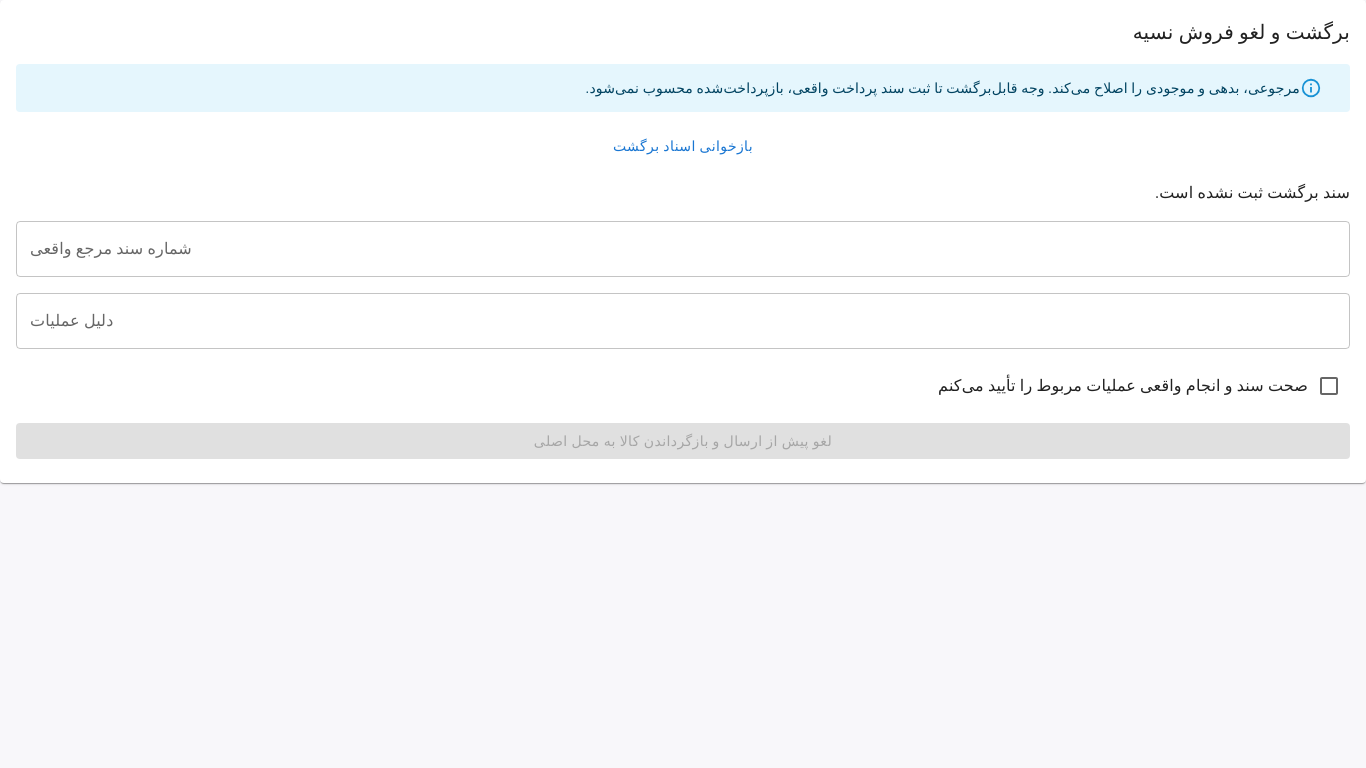
Test: Credit-sale cancellation and real refund UI › requires evidence/confirmation and submits captured versions without invented financial amounts
Expected: the button "لغو پیش از ارسال و بازگرداندن کالا به محل اصلی" is disabled, left=16, top=422, right=1350, bottom=459
Type "actual-evidence" into the field labelled "شماره سند مرجع واقعی". click: (683, 248)
box: left=16, top=220, right=1350, bottom=276
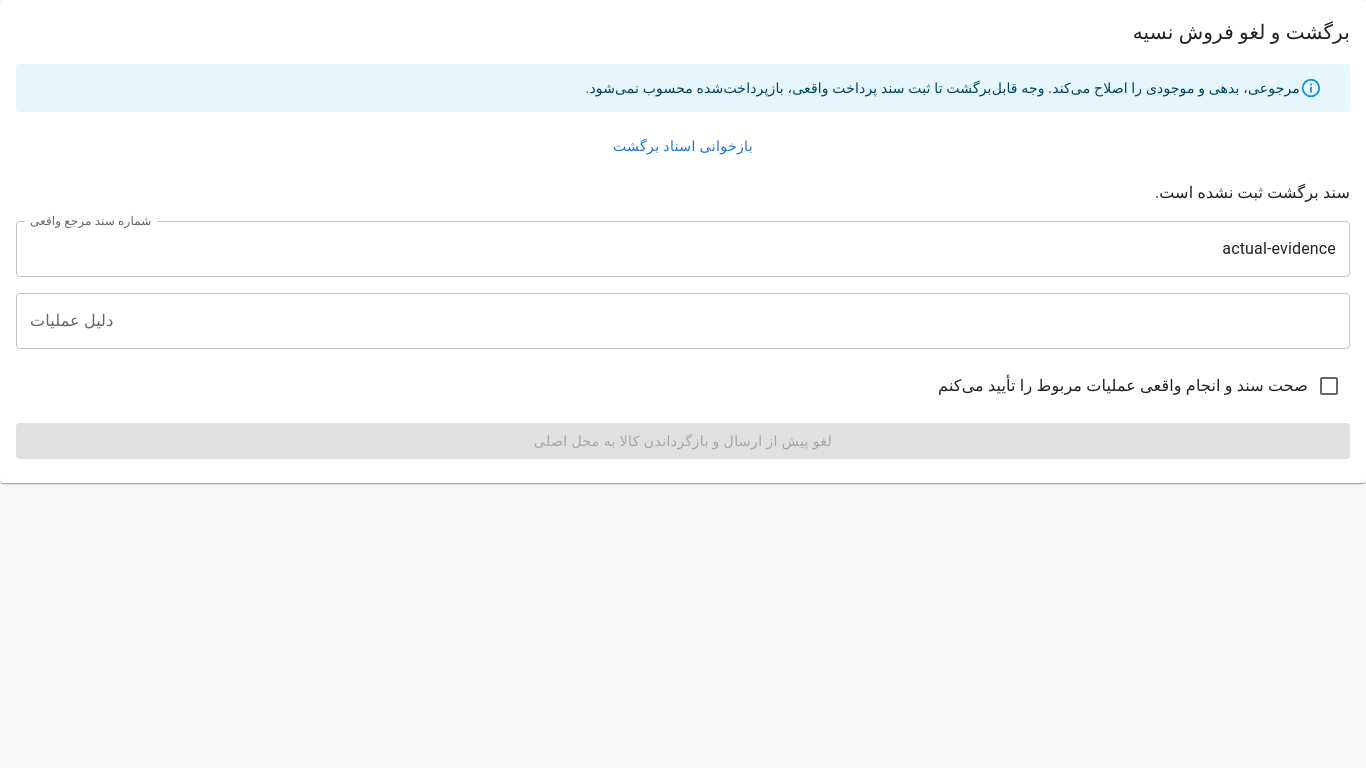
Type "Actual test reason" into the field labelled "دلیل عملیات". click: (683, 320)
box: left=16, top=292, right=1350, bottom=348
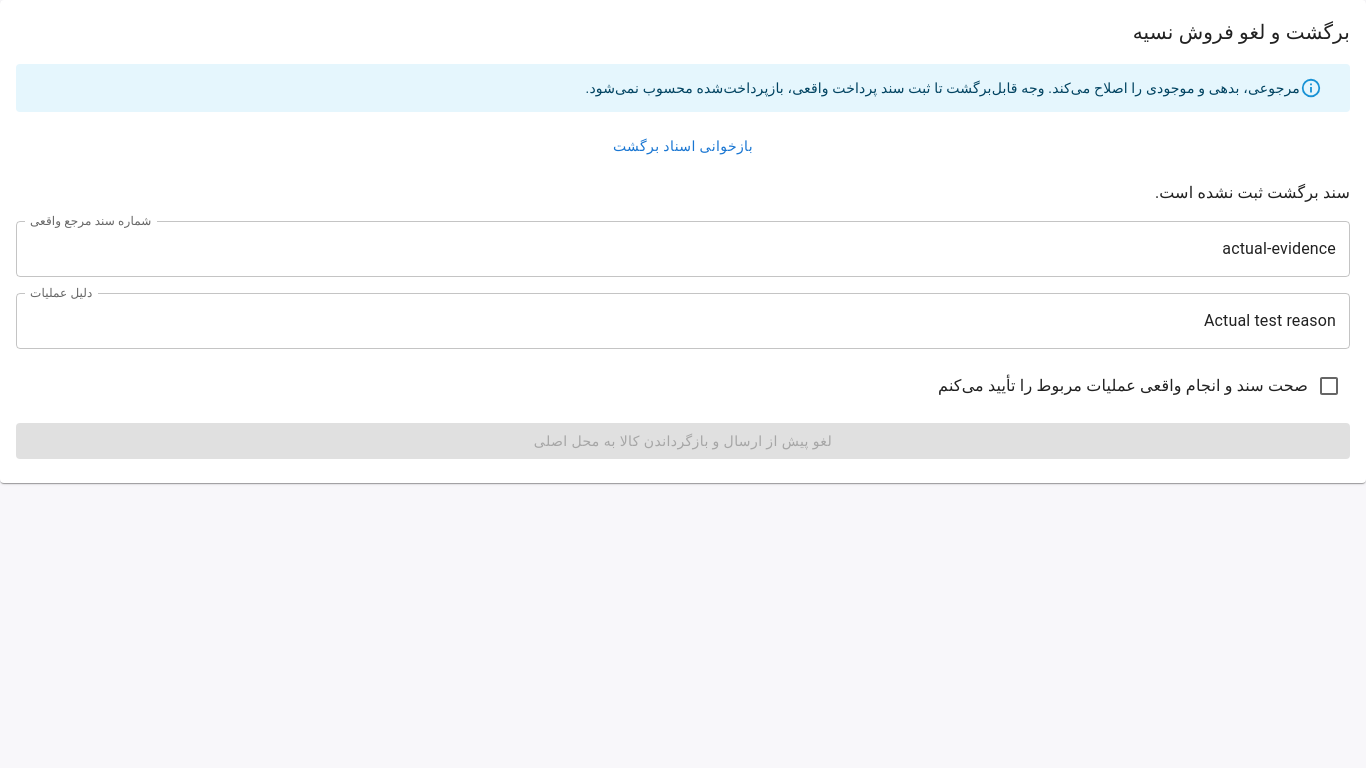
Click the checkbox. click: (1140, 386)
box: left=938, top=374, right=1341, bottom=398
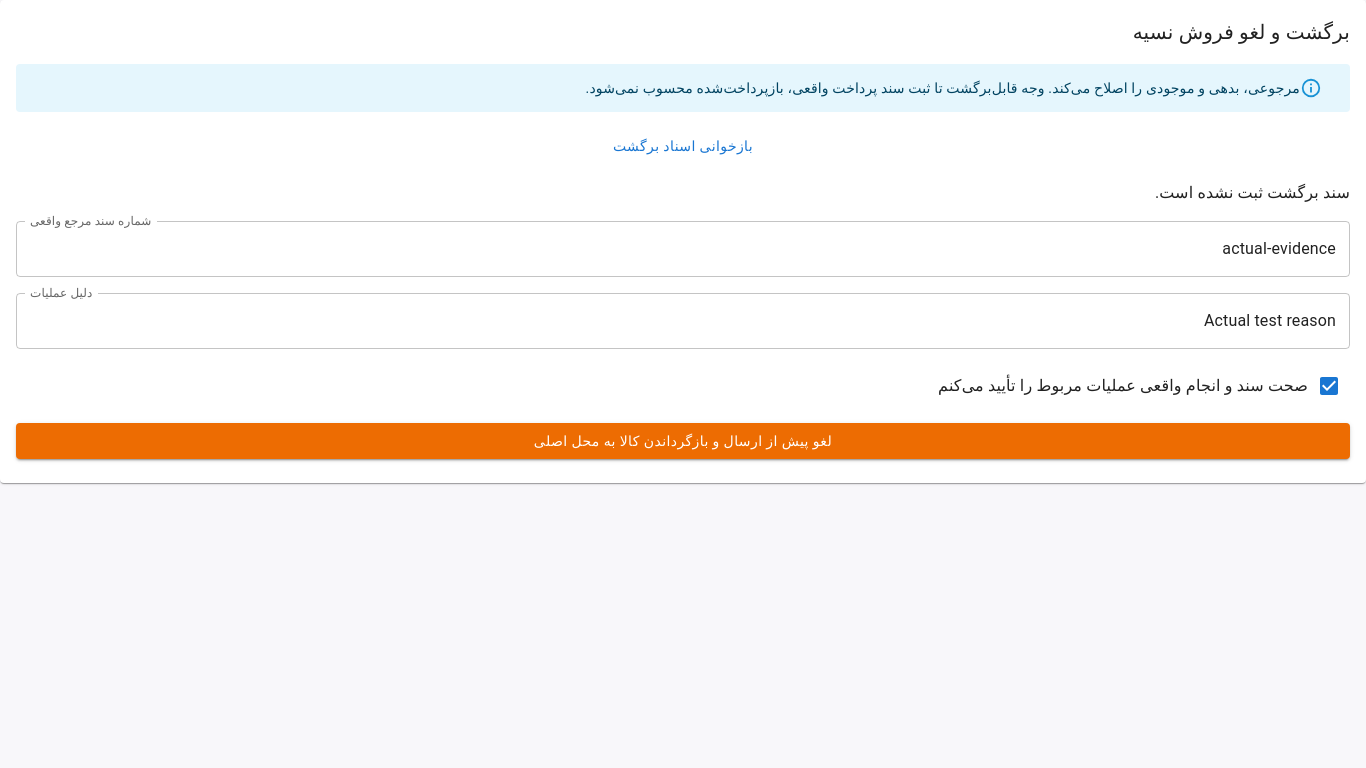
Now the button "لغو پیش از ارسال و بازگرداندن کالا به محل اصلی" is enabled
Click the button "لغو پیش از ارسال و بازگرداندن کالا به محل اصلی". click: (683, 441)
box: left=16, top=422, right=1350, bottom=459
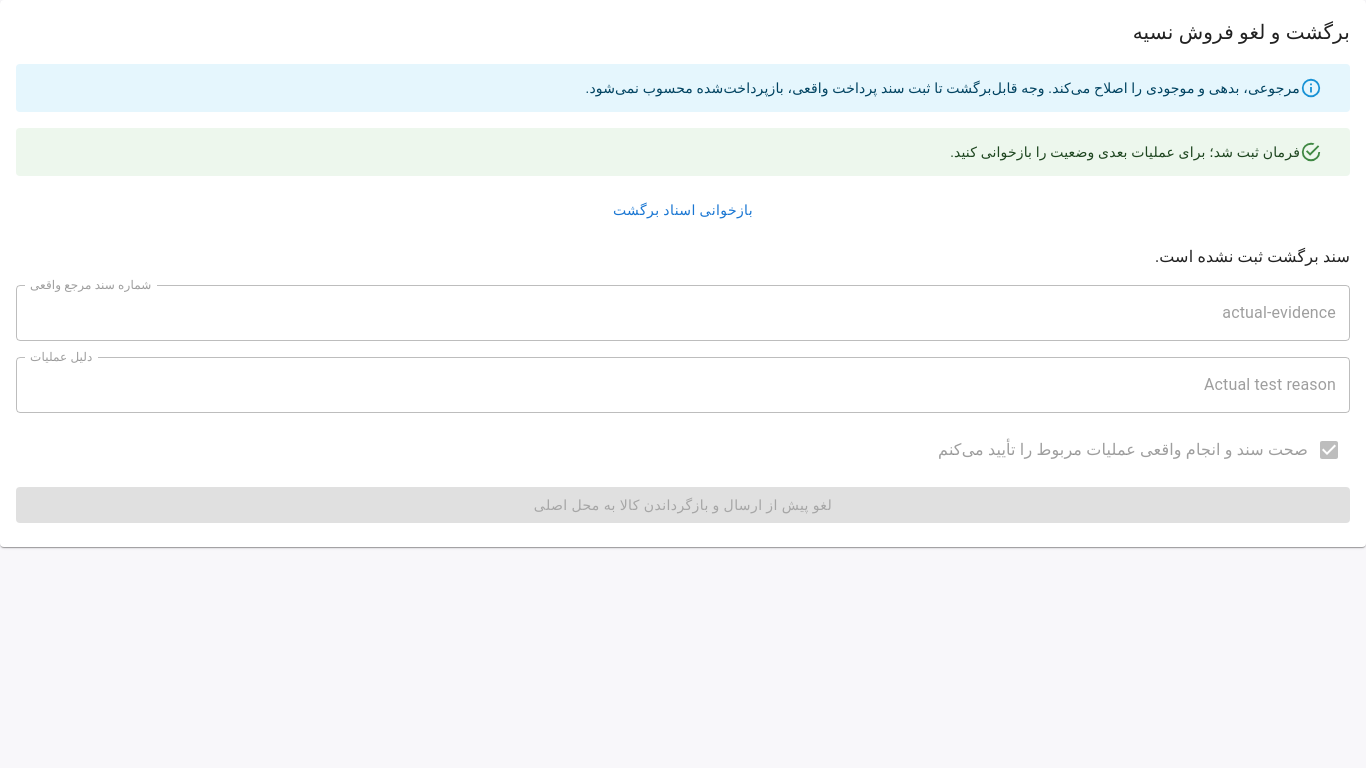
Now the text "فرمان ثبت شد؛ برای عملیات بعدی وضعیت را بازخوانی کنید." is shown, box left=950, top=144, right=1300, bottom=160
Now the button "لغو پیش از ارسال و بازگرداندن کالا به محل اصلی" is disabled, box left=16, top=486, right=1350, bottom=523
